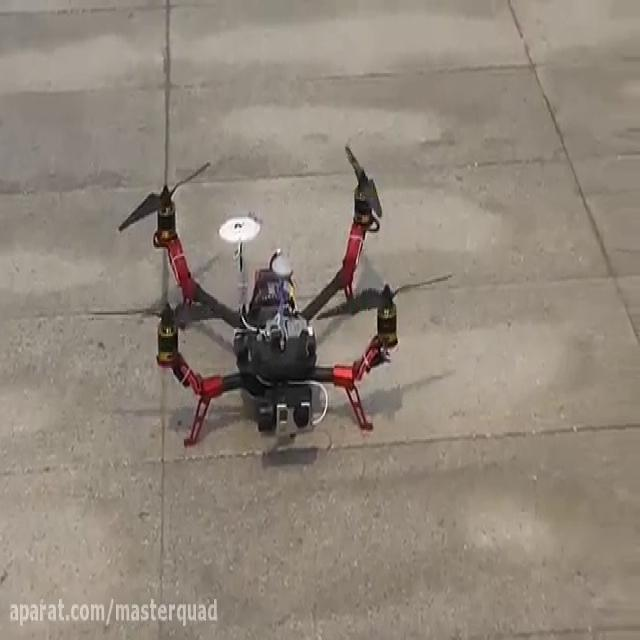drone: (110, 138, 453, 450)
